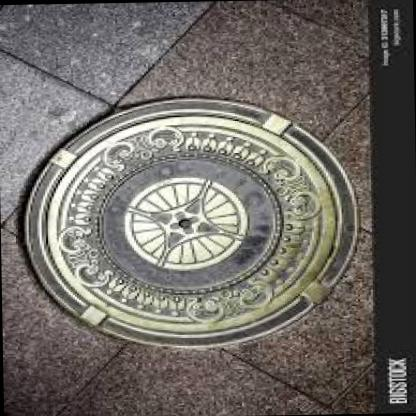manholes: (11, 73, 370, 389)
